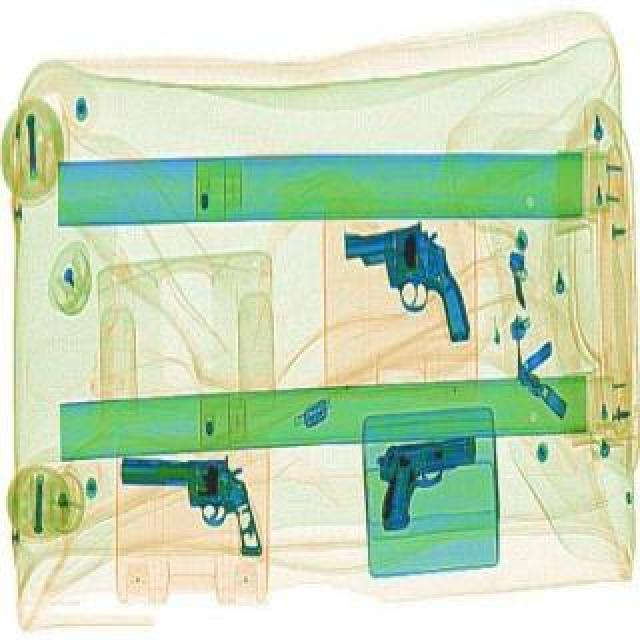gun: (338, 216, 470, 354), (116, 450, 268, 552), (368, 432, 486, 530)
